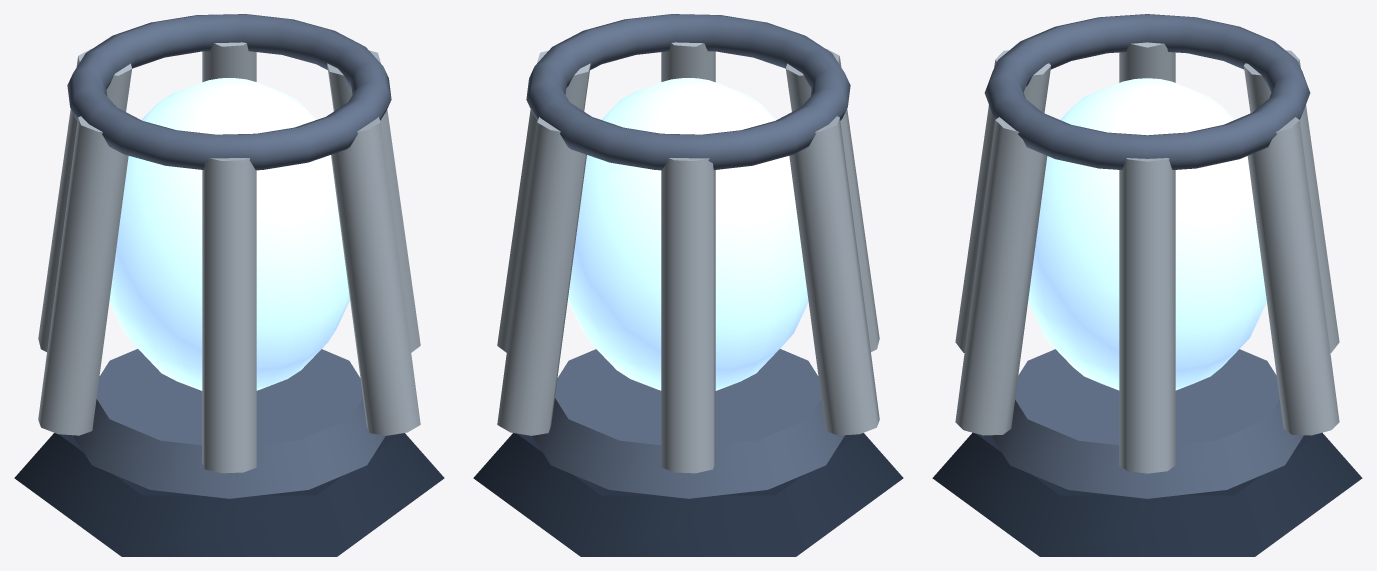
The model's file is cryogenic_hydrocarbon--shield_emitter.glb.
3 views of the same model, side by side, from view 1: azimuth 30°, elevation 25°; view 2: azimuth 150°, elevation 25°; view 3: azimuth 270°, elevation 25° (orthographic).
Parts seen in each view (by area): view 1: shield_emitter_core_3, mount_adapter_1, rotation_bearing_2, emitter_ring_10, emitter_cage_6, emitter_cage_7, emitter_cage_5, emitter_cage_8, emitter_cage_4, emitter_cage_9; view 2: shield_emitter_core_3, mount_adapter_1, rotation_bearing_2, emitter_ring_10, emitter_cage_8, emitter_cage_7, emitter_cage_9, emitter_cage_6, emitter_cage_4, emitter_cage_5; view 3: shield_emitter_core_3, mount_adapter_1, rotation_bearing_2, emitter_ring_10, emitter_cage_4, emitter_cage_5, emitter_cage_9, emitter_cage_6, emitter_cage_8, emitter_cage_7.
Part boxes in pixels (x1,y1,x2,y2): shield_emitter_core_3: (109, 78, 349, 390); mount_adapter_1: (14, 433, 444, 556); rotation_bearing_2: (73, 349, 385, 498); emitter_ring_10: (67, 14, 391, 170); emitter_cage_6: (202, 158, 256, 473); emitter_cage_7: (38, 116, 128, 435); emitter_cage_5: (331, 117, 420, 435); emitter_cage_8: (38, 49, 131, 351); emitter_cage_4: (327, 50, 420, 352); emitter_cage_9: (202, 42, 256, 82); shield_emitter_core_3: (568, 78, 808, 390); mount_adapter_1: (473, 433, 903, 556); rotation_bearing_2: (532, 349, 844, 498); emitter_ring_10: (526, 14, 850, 170); emitter_cage_8: (661, 158, 715, 473); emitter_cage_7: (789, 116, 879, 435); emitter_cage_9: (497, 117, 586, 435); emitter_cage_6: (786, 49, 879, 351); emitter_cage_4: (497, 50, 590, 352); emitter_cage_5: (661, 42, 715, 82); shield_emitter_core_3: (1028, 78, 1266, 390); mount_adapter_1: (932, 432, 1362, 556); rotation_bearing_2: (991, 349, 1303, 498); emitter_ring_10: (984, 14, 1310, 169); emitter_cage_4: (1119, 158, 1175, 473); emitter_cage_5: (955, 117, 1047, 435); emitter_cage_9: (1247, 117, 1339, 435); emitter_cage_6: (955, 50, 1050, 352); emitter_cage_8: (1244, 50, 1339, 352); emitter_cage_7: (1119, 42, 1175, 82).
Size of the model in its own units: 10.19 by 10.42 by 10.08.
